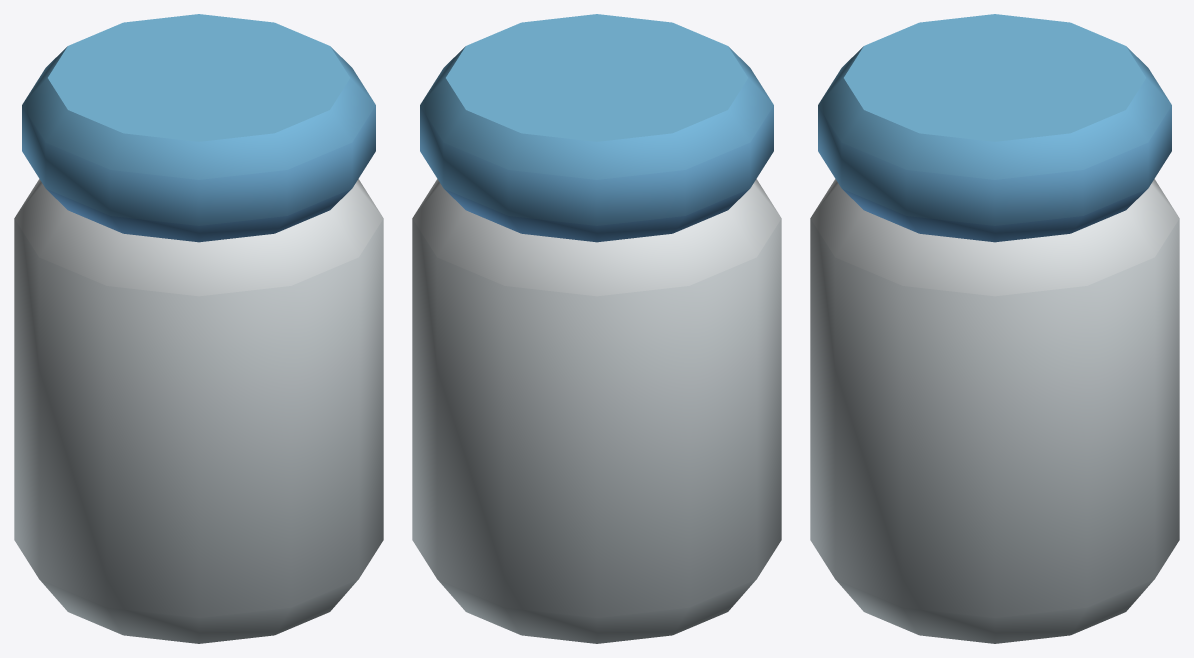
Rendered from re-jar_A_large.glb.
3 views of the same model, side by side, from view 1: azimuth 30°, elevation 25°; view 2: azimuth 150°, elevation 25°; view 3: azimuth 270°, elevation 25° (orthographic).
Visible parts, largest first — view 1: jar_A_large; view 2: jar_A_large; view 3: jar_A_large.
Part boxes in pixels (x1,y1,x2,y2): jar_A_large: [14, 14, 383, 643]; jar_A_large: [412, 14, 781, 643]; jar_A_large: [810, 14, 1179, 643].
Bounding box in the file's own units: 0.5 × 0.75 × 0.5.
Materials: 1 (1 with a texture image).
